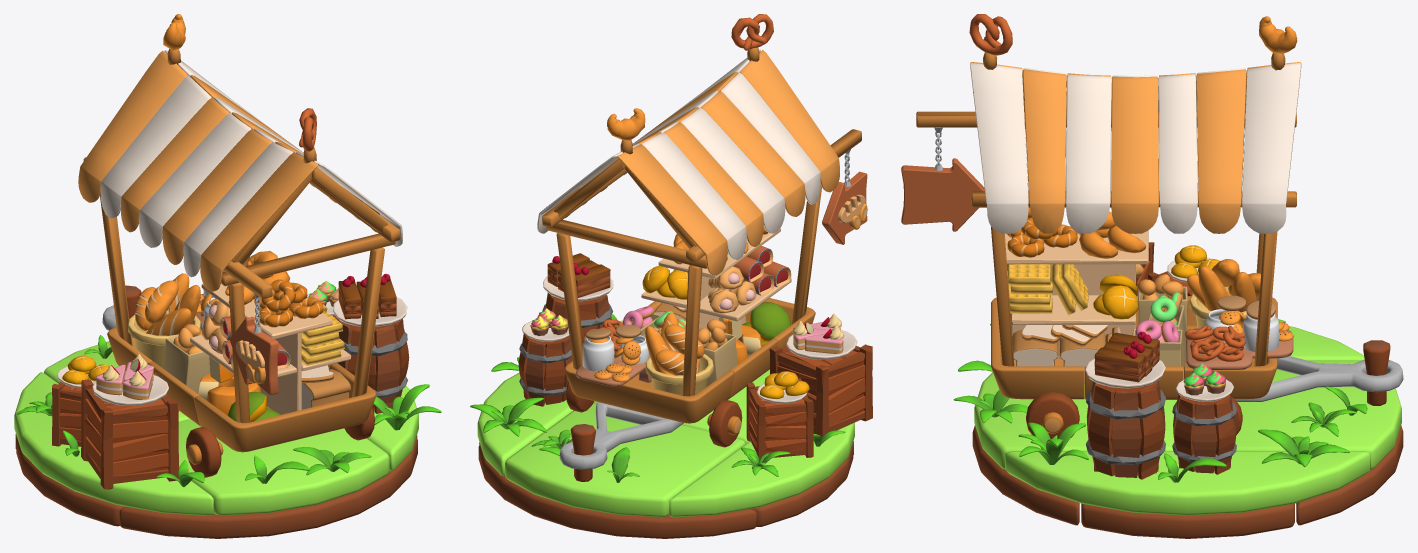
The model's file is Level_P_07.fbx.
The picture shows the model from 3 angles, left to right: view 1: azimuth 30°, elevation 25°; view 2: azimuth 150°, elevation 25°; view 3: azimuth 270°, elevation 25°; orthographic projection. The views are drawn at different scales.
Parts seen in each view (by area): view 1: Cylinder.036, barrel.030, Cylinder.055, Cylinder.045, Cube.052, Plane.008, Plane.009, Plane.011, Plane.012, Plane.013, Plane.010, Plane.014 (+44 smaller); view 2: Cylinder.043, Cylinder.055, Cylinder.041, barrel.030, Cube.075, Plane.011, Plane.008, barrel.031, Plane.012, Plane.013, Plane.009, Cylinder.042 (+49 smaller); view 3: Cylinder.042, Cylinder.043, Plane.007, Plane.001, Plane.006, Plane.004, Plane.003, barrel.033, Plane.002, Plane.005, Cylinder.035, Cube.067 (+46 smaller).
Boxes of the visible parts, box(x1,y1,x2,y2) form: Cylinder.036: box(178, 419, 389, 515); barrel.030: box(81, 371, 178, 489); Cylinder.055: box(14, 372, 213, 515); Cylinder.045: box(119, 438, 417, 538); Cube.052: box(194, 363, 376, 452); Plane.008: box(78, 50, 187, 202); Plane.009: box(100, 75, 211, 218); Plane.011: box(200, 152, 318, 291); Plane.012: box(139, 113, 251, 247); Plane.013: box(162, 129, 272, 264); Plane.010: box(121, 97, 229, 232); Plane.014: box(183, 142, 292, 277); Cylinder.043: box(505, 403, 745, 517); Cylinder.055: box(669, 423, 854, 517); Cylinder.041: box(478, 444, 756, 538); barrel.030: box(769, 344, 872, 437); Cube.075: box(564, 361, 734, 423); Plane.011: box(740, 50, 839, 192); Plane.008: box(617, 144, 727, 275); barrel.031: box(746, 378, 813, 459); Plane.012: box(680, 107, 785, 233); Plane.013: box(701, 91, 805, 216); Plane.009: box(642, 132, 746, 259); Cylinder.042: box(477, 372, 573, 475); Cylinder.042: box(1005, 451, 1370, 515); Cylinder.043: box(1235, 360, 1401, 469); Plane.007: box(1242, 63, 1301, 233); Plane.001: box(970, 63, 1028, 233); Plane.006: box(1196, 69, 1246, 233); Plane.004: box(1111, 76, 1158, 233); Plane.003: box(1065, 74, 1111, 233); barrel.033: box(1086, 380, 1165, 479); Plane.002: box(1022, 69, 1066, 233); Plane.005: box(1158, 74, 1197, 233); Cylinder.035: box(1081, 503, 1294, 538); Cube.067: box(901, 158, 984, 231).
Bounding box in the file's own units: 19.27 × 21.53 × 22.54.
